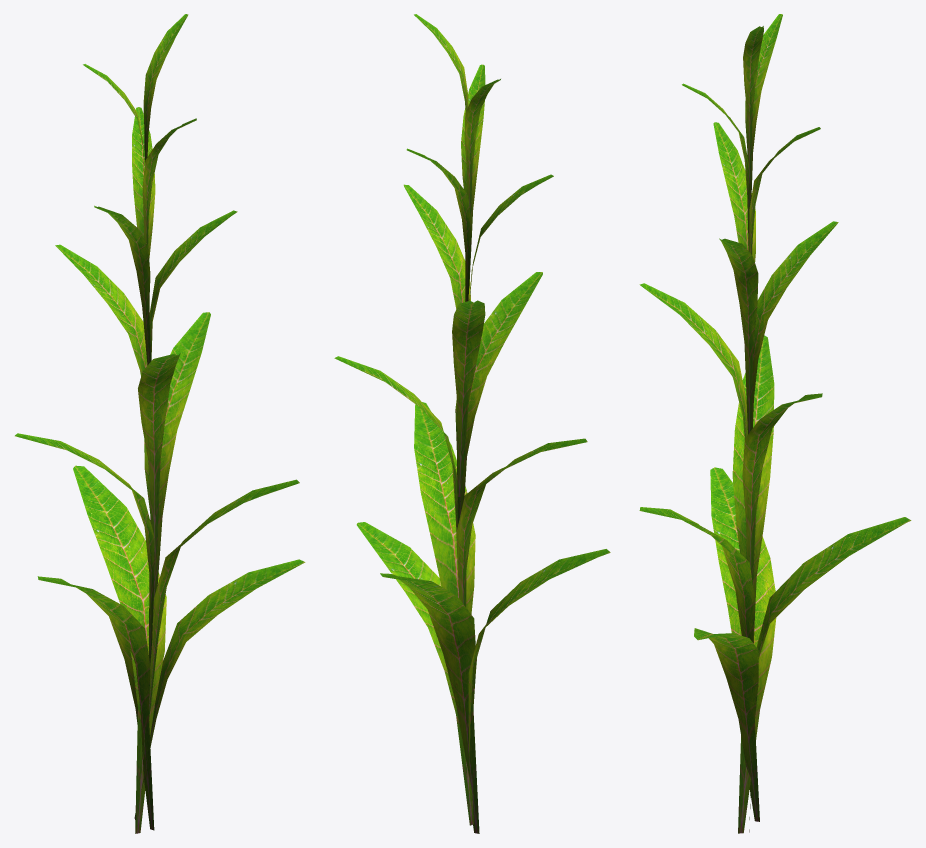
Rendered from plant.fbx.
3 renders of one model, left to right at view 1: azimuth 30°, elevation 25°; view 2: azimuth 150°, elevation 25°; view 3: azimuth 270°, elevation 25°, orthographic. The views are drawn at different scales.
Visible parts, largest first — view 1: p1; view 2: p1; view 3: p1.
Part boxes in pixels (x1=…): p1: x1=15, y1=14, x2=305, y2=833; p1: x1=334, y1=14, x2=610, y2=833; p1: x1=639, y1=14, x2=911, y2=833.
Size of the model in its own units: 161 by 476 by 141.
